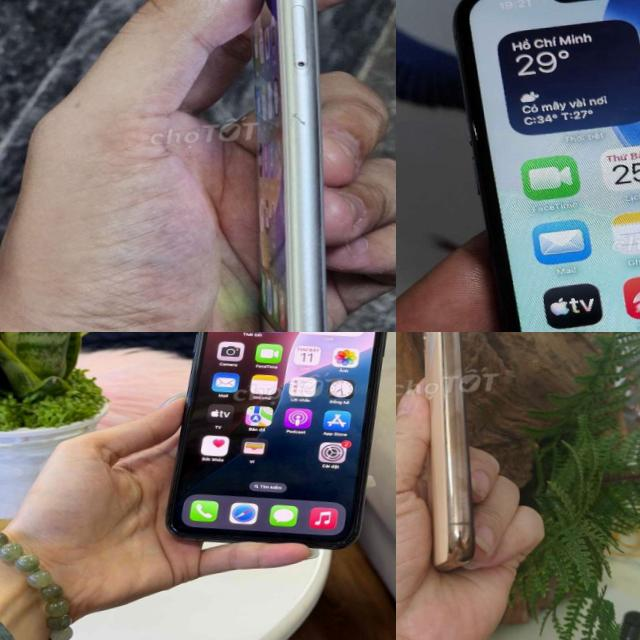gen_11: (437, 0, 640, 332), (168, 332, 385, 548), (403, 332, 489, 593)
gen_7_8: (250, 0, 327, 332)
